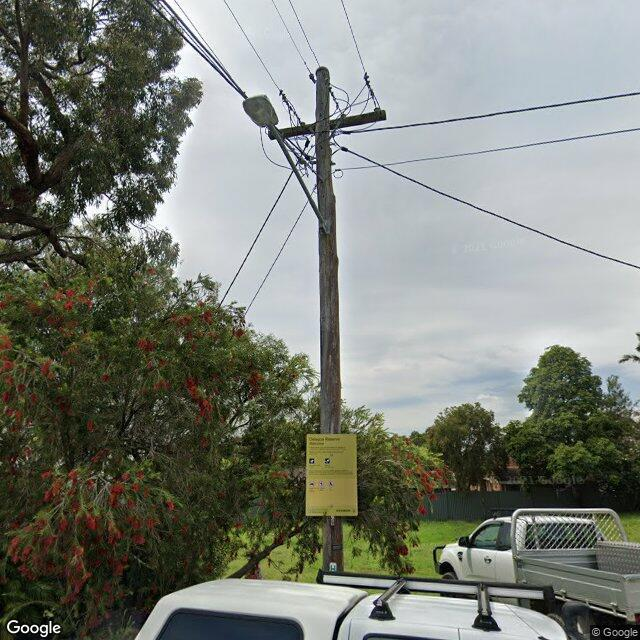crossarm: (268, 108, 387, 141)
streetlight: (242, 94, 329, 234)
timber-pole: (315, 66, 344, 574)
